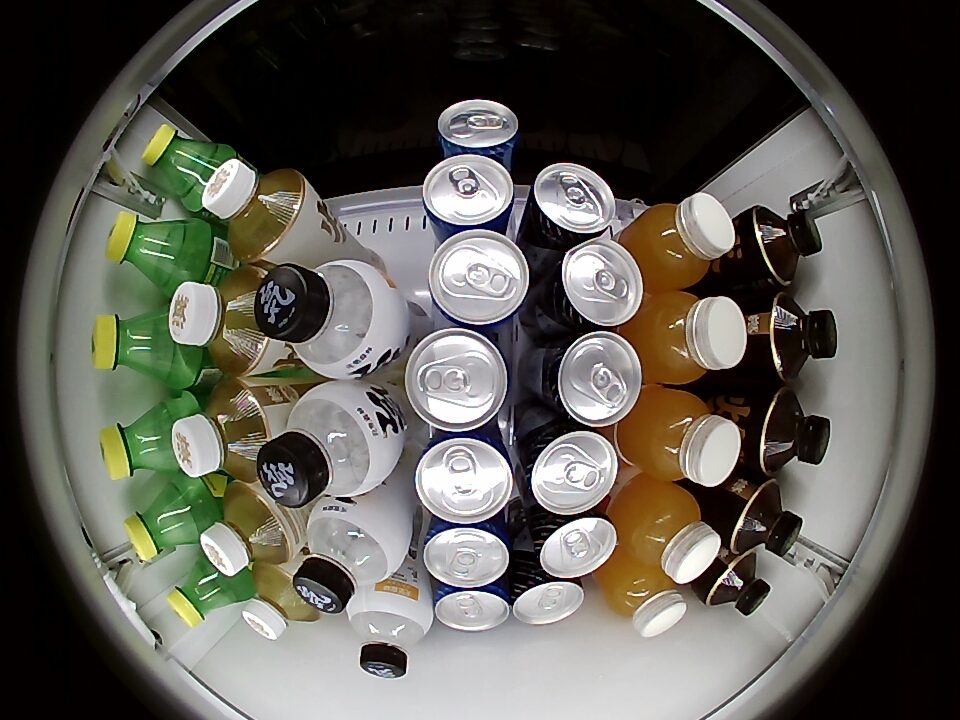qingdaowangzi-1: (539, 331, 643, 427), (543, 240, 644, 331), (522, 422, 619, 515), (525, 163, 616, 246), (528, 509, 619, 579), (510, 571, 586, 626)
qingdaowangzi-2: (403, 327, 511, 433), (427, 229, 531, 329), (413, 430, 517, 525), (421, 153, 516, 235), (422, 519, 512, 588), (436, 99, 520, 161), (433, 580, 511, 632)
rancha-1: (758, 387, 831, 475), (767, 293, 838, 382), (750, 205, 823, 286), (731, 480, 804, 557), (702, 550, 771, 616)
rancha-2: (168, 269, 280, 377), (201, 158, 309, 263), (172, 379, 275, 482), (200, 481, 299, 576), (241, 564, 321, 641)
weic: (619, 387, 743, 486), (612, 480, 722, 583), (622, 194, 736, 289), (634, 291, 748, 384), (601, 560, 687, 637)
xuebi-b: (106, 208, 194, 290), (142, 123, 227, 206), (124, 482, 205, 563), (100, 401, 179, 480), (92, 310, 175, 384), (168, 558, 242, 627)
yuanqishui: (256, 382, 397, 506), (255, 259, 400, 379), (292, 498, 409, 614), (347, 588, 433, 679)
